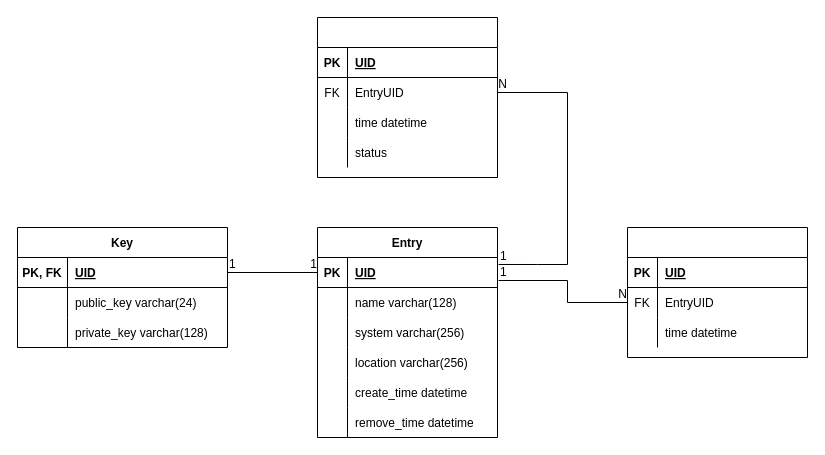
Image size: 825x455. Some labels were removed from this diagram. The box of each missing label's shape, as (x1, y1, x2, y2) in pixels:
Requests: (626, 226, 808, 358)
StatusHistory: (316, 16, 498, 178)
